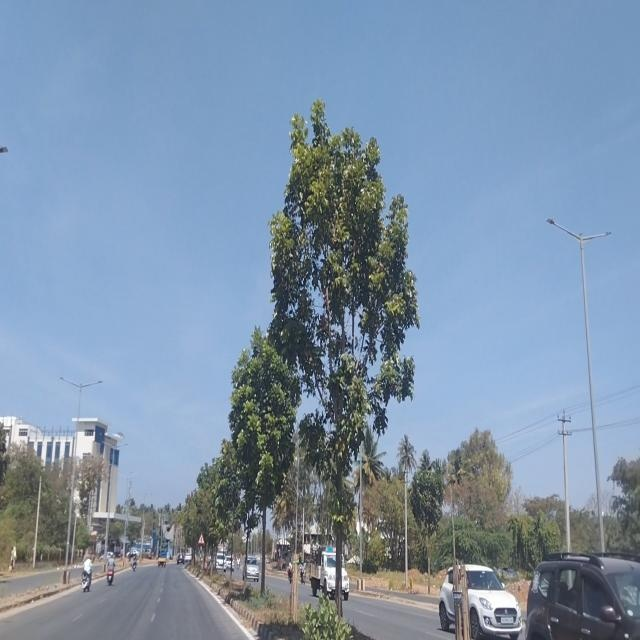bien_nguy_hiem: (197, 532, 204, 546)
